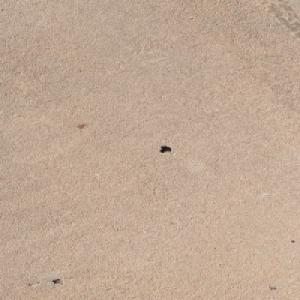BoltWasher: (158, 145, 168, 152)
